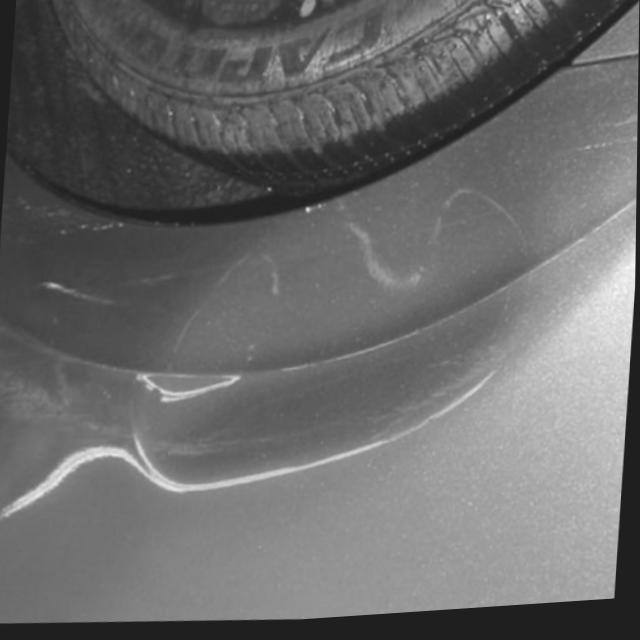Dent: (127, 163, 535, 498)
